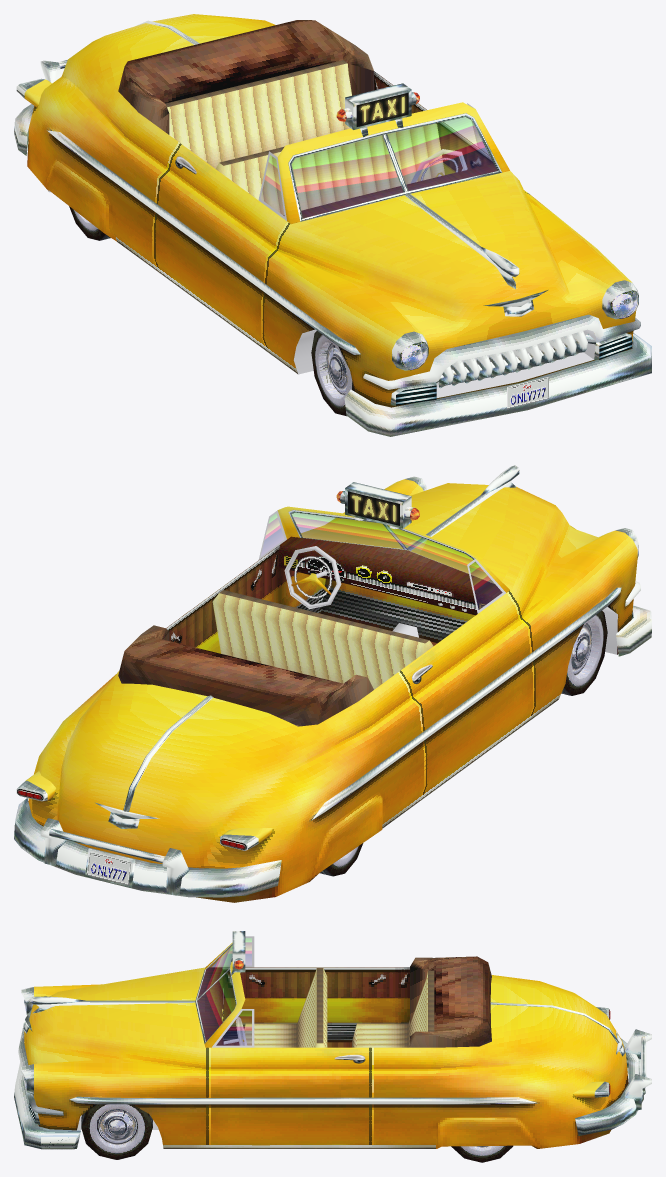
Rendered from cab-gus.glb.
3 renders of one model, top to bottom at view 1: azimuth 30°, elevation 25°; view 2: azimuth 150°, elevation 25°; view 3: azimuth 270°, elevation 25°, orthographic. The views are drawn at different scales.
Visible parts, largest first — view 1: body, wheel front right, roof sign; view 2: body, wheel front right, rear bumper, roof sign; view 3: body, wheel front left, wheel rear left, rear bumper.
Boxes of the visible parts, box(x1,y1,x2,y2) form: body: box(14, 14, 651, 436); wheel front right: box(311, 331, 354, 416); roof sign: box(356, 92, 408, 126); body: box(14, 465, 651, 902); wheel front right: box(561, 611, 607, 695); rear bumper: box(16, 771, 272, 850); roof sign: box(348, 491, 399, 525); body: box(14, 931, 651, 1149); wheel front left: box(81, 1104, 152, 1159); wheel rear left: box(451, 1145, 513, 1162); rear bumper: box(573, 1007, 610, 1097).
Size of the model in its own units: 19.53 by 15.24 by 50.67.
28 materials, 27 textured.
